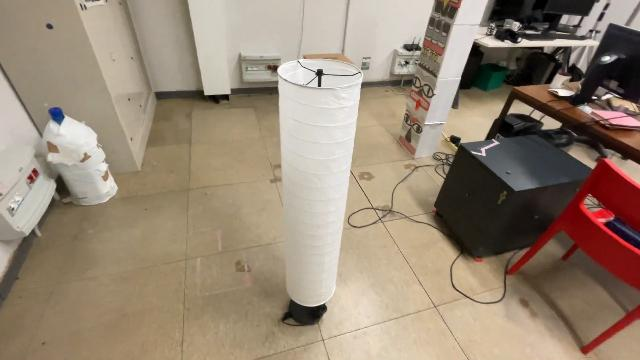Chair: (502, 153, 640, 360)
Lamp: (272, 55, 368, 330)
